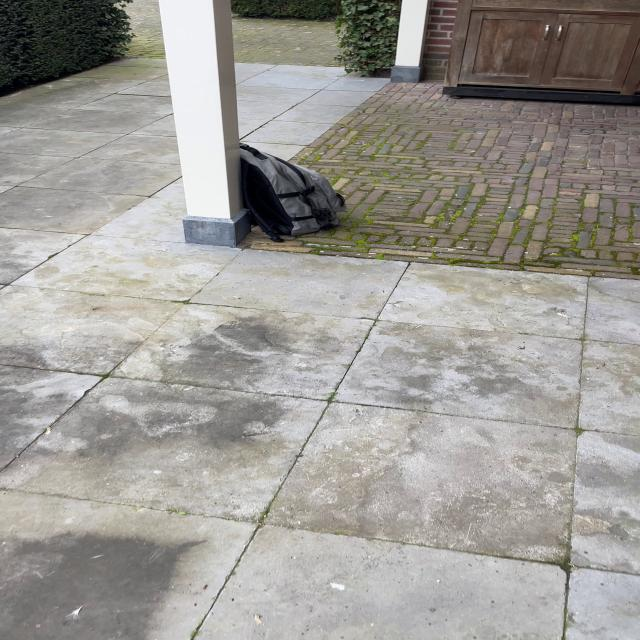backpack: (227, 140, 352, 245)
